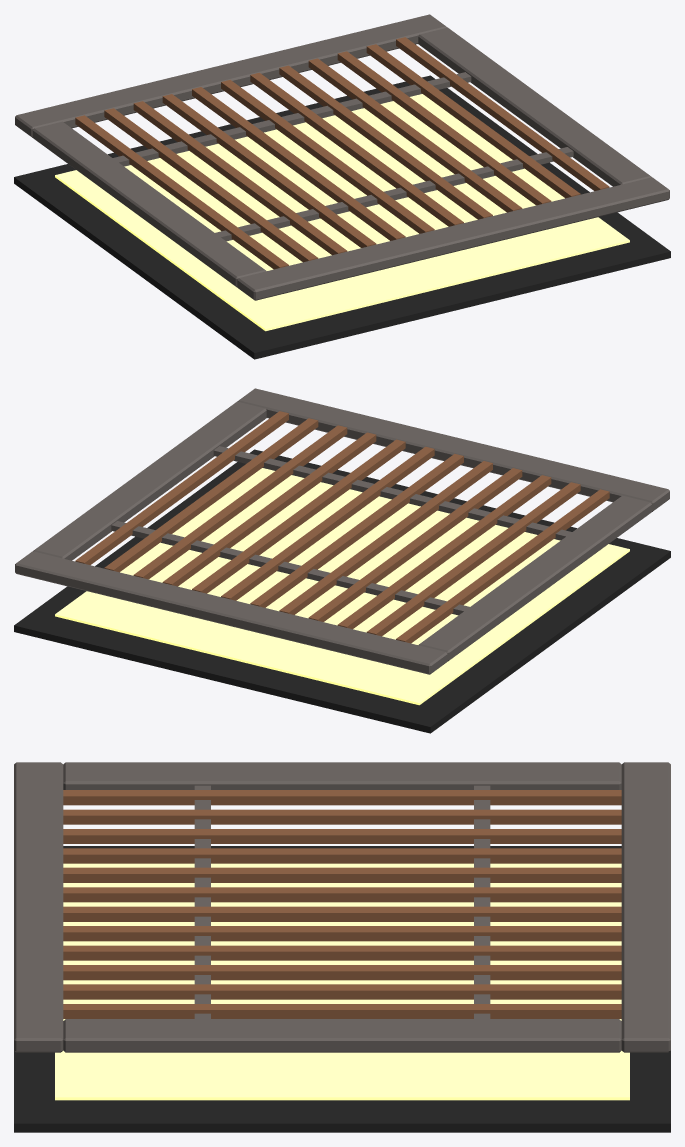
File: floor_wk_drain.glb
3 renders of one model, top to bottom at view 1: azimuth 30°, elevation 25°; view 2: azimuth 150°, elevation 25°; view 3: azimuth 270°, elevation 25°, orthographic. The views are drawn at different scales.
Visible parts, largest first — view 1: floor_wk_drain; view 2: floor_wk_drain; view 3: floor_wk_drain.
Part boxes in pixels (bbox=[...]): floor_wk_drain: bbox=[14, 14, 670, 359]; floor_wk_drain: bbox=[14, 388, 670, 733]; floor_wk_drain: bbox=[14, 762, 670, 1132].
Size of the model in its own units: 4 by 0.63 by 4.
